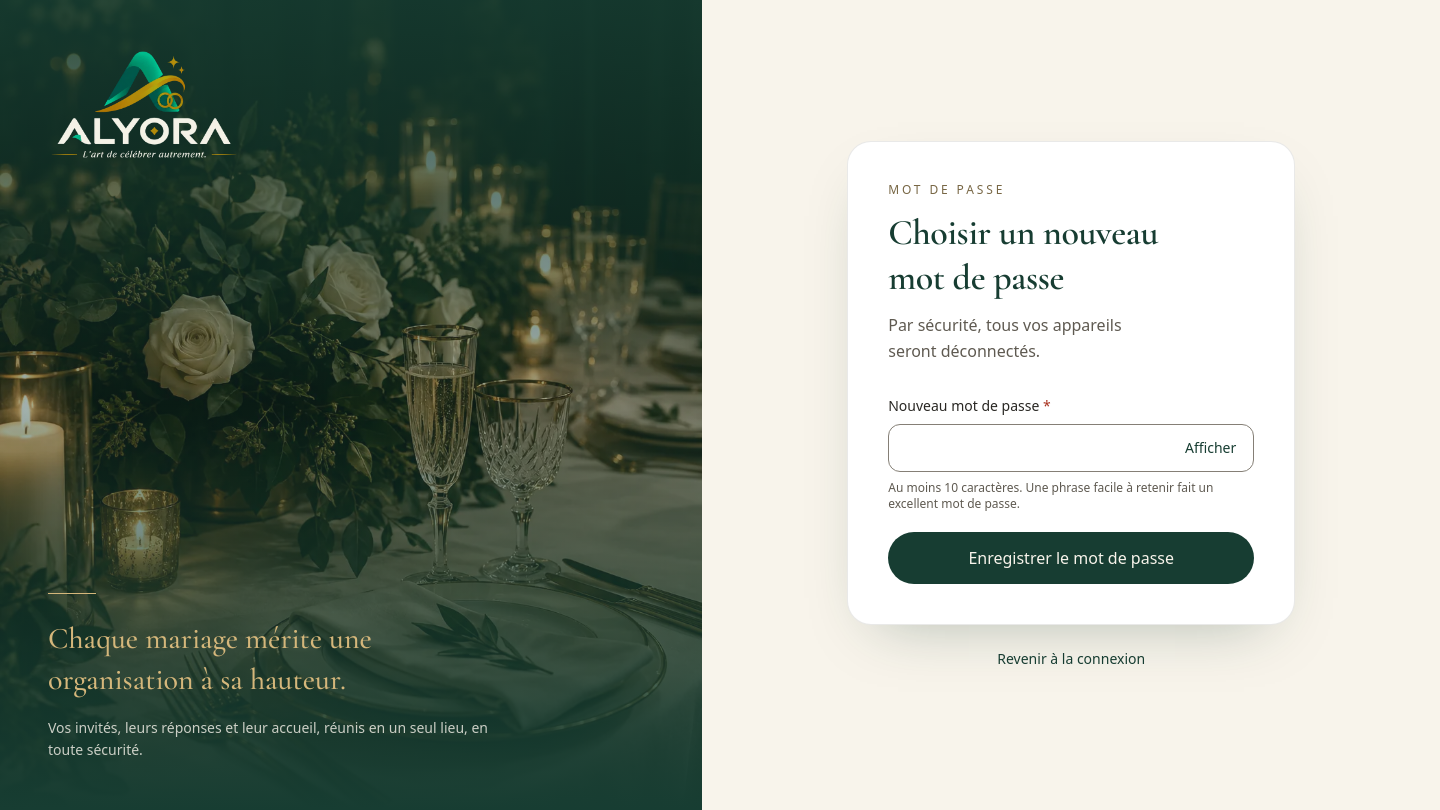
it: password reset page › replaces the password with the token of the link
The image size is (1440, 810).
Type "Les pirogues au port" into the password field labelled "Nouveau mot de passe *" at (1071,448), box [888,424,1254,472]
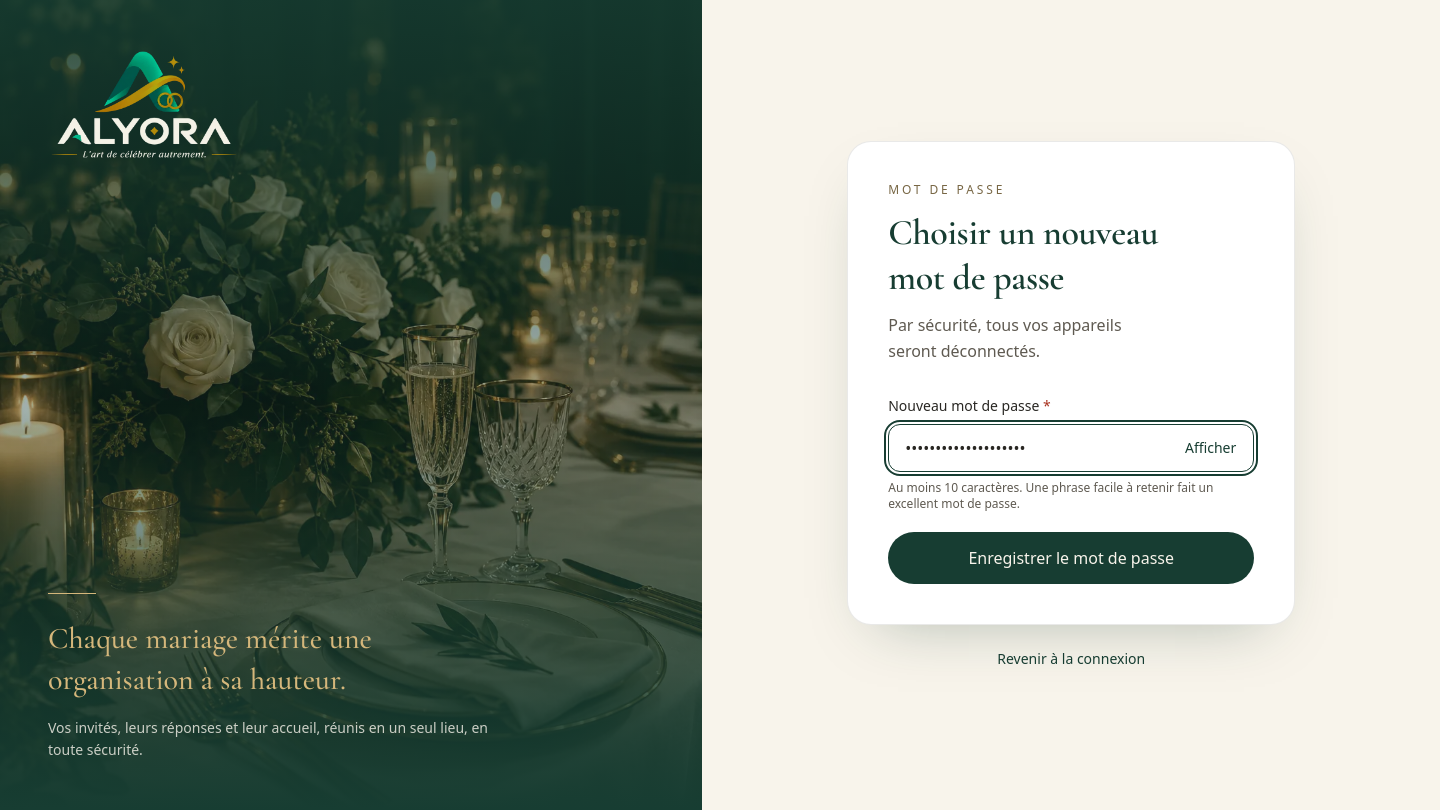
Click the button "Enregistrer le mot de passe" at (1071,558), box [888,532,1254,584]
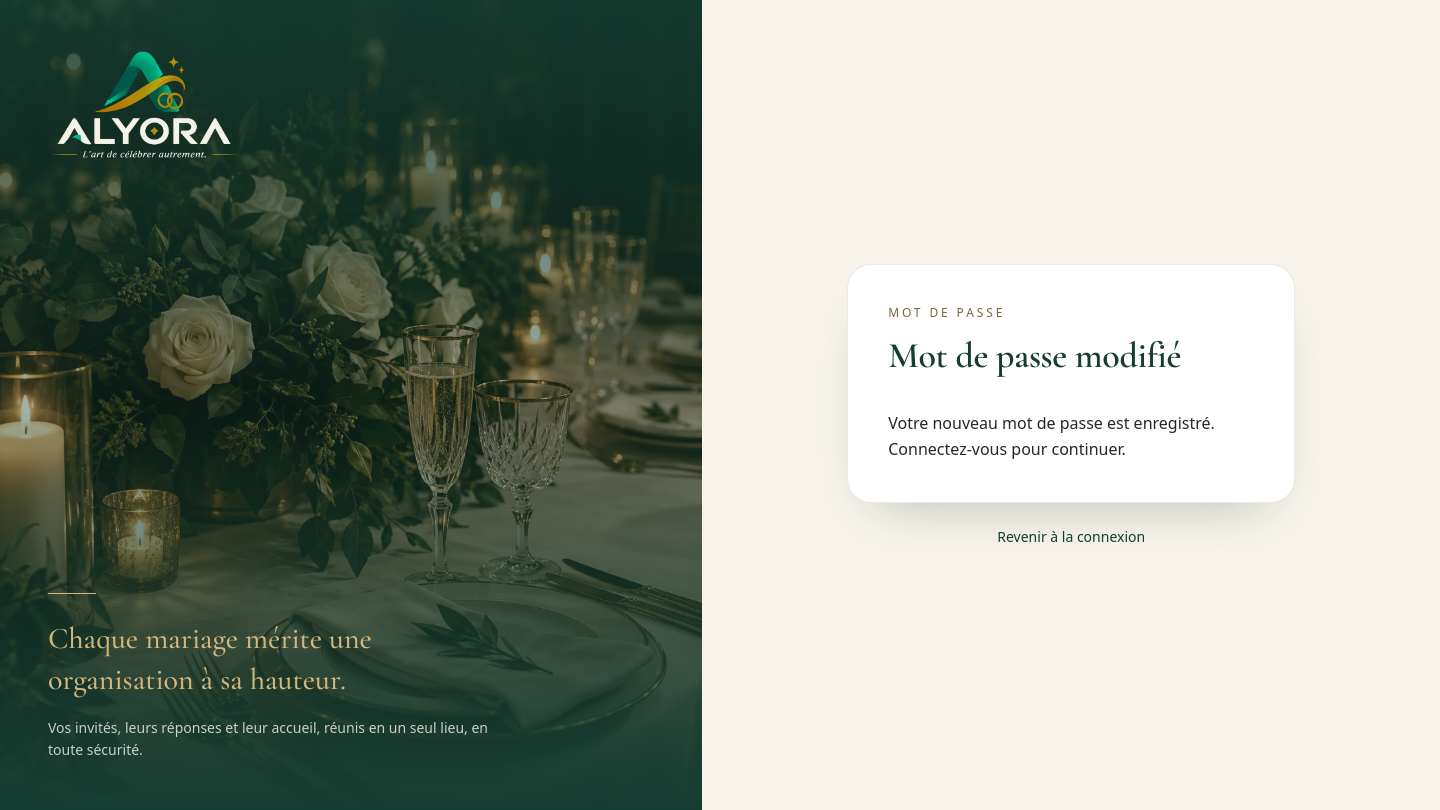
expect the heading "Mot de passe modifié" is shown: met, box [888,334,1181,376]
